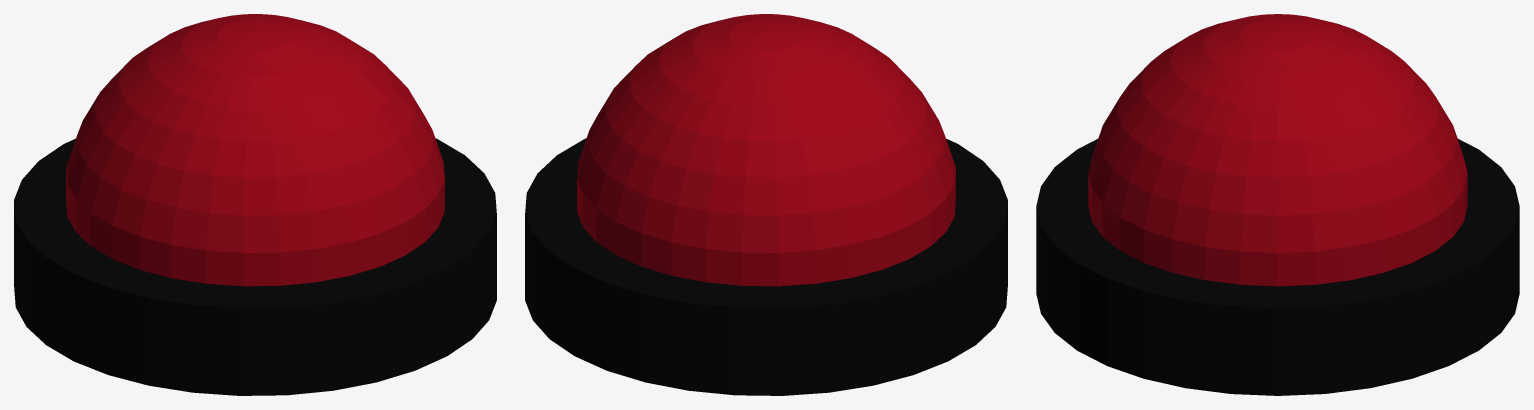
Rendered from Button.fbx.
3 views of the same model, side by side, from view 1: azimuth 30°, elevation 25°; view 2: azimuth 150°, elevation 25°; view 3: azimuth 270°, elevation 25° (orthographic).
Parts seen in each view (by area): view 1: Button, Button Base; view 2: Button, Button Base; view 3: Button, Button Base.
Part boxes in pixels (left/top/right/bottom): Button: left=66, top=14, right=444, bottom=286; Button Base: left=14, top=138, right=496, bottom=395; Button: left=577, top=14, right=955, bottom=286; Button Base: left=525, top=138, right=1007, bottom=395; Button: left=1088, top=14, right=1467, bottom=286; Button Base: left=1036, top=139, right=1519, bottom=395.
Size of the model in its own units: 100 by 59.79 by 100.
